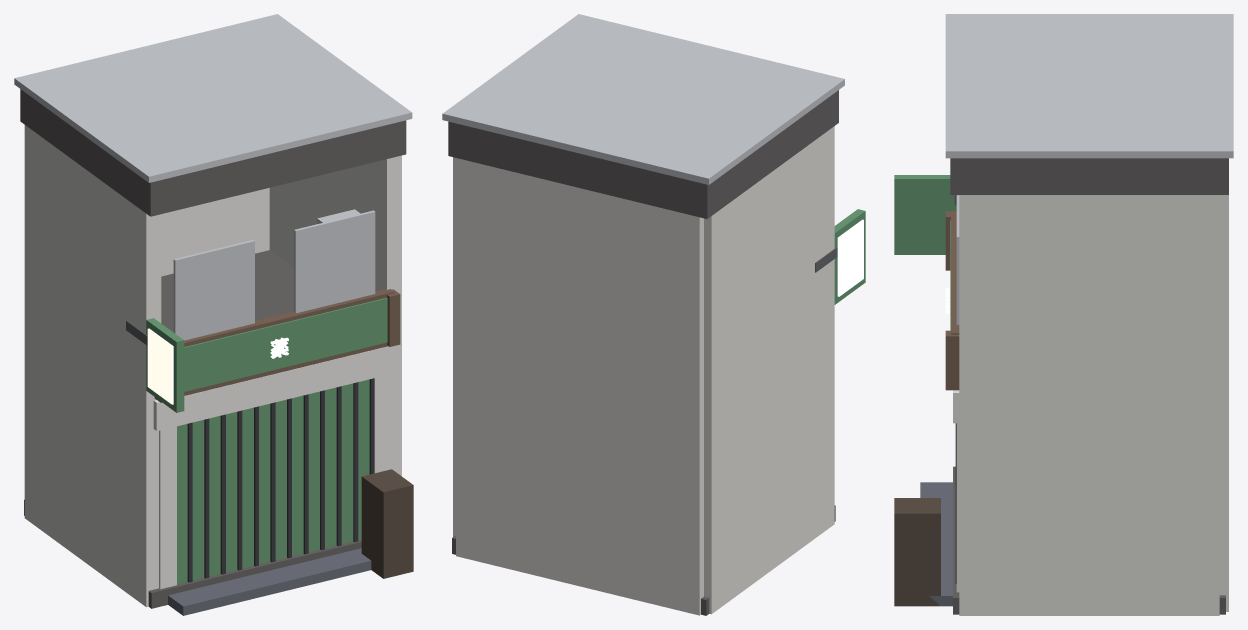
File: prop_shop_yakkyoku_closed.glb
3 renders of one model, left to right at view 1: azimuth 30°, elevation 25°; view 2: azimuth 150°, elevation 25°; view 3: azimuth 270°, elevation 25°, orthographic. The views are drawn at different scales.
Visible parts, largest first — view 1: shop_yakkyoku_closed; view 2: shop_yakkyoku_closed; view 3: shop_yakkyoku_closed.
Boxes of the visible parts, bbox=[...] form: shop_yakkyoku_closed: bbox=[14, 14, 413, 615]; shop_yakkyoku_closed: bbox=[442, 14, 865, 615]; shop_yakkyoku_closed: bbox=[894, 14, 1233, 615].
Size of the model in its own units: 3.5 by 5.54 by 3.65.
